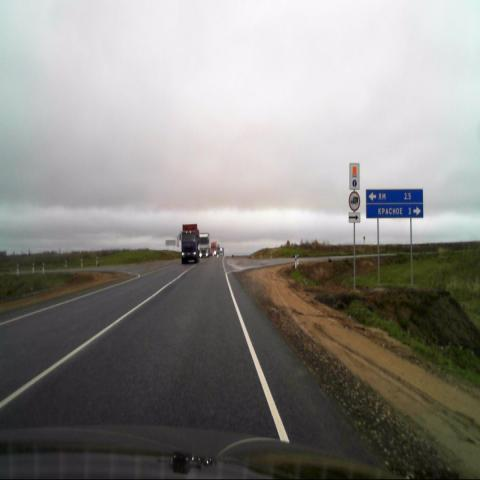4_8_2: (349, 162, 359, 188)
